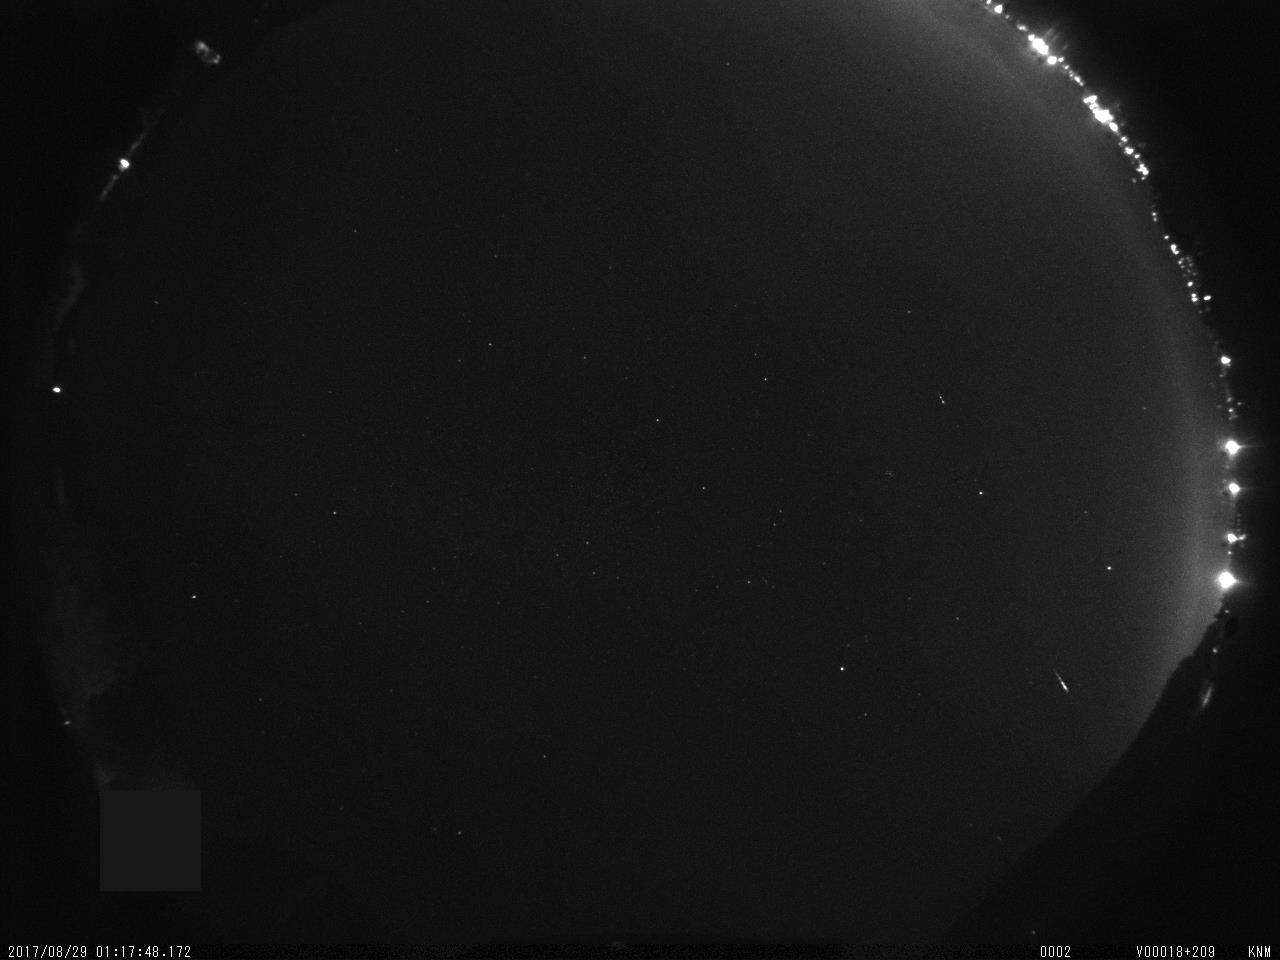Meteor: (1050, 663, 1074, 696)
